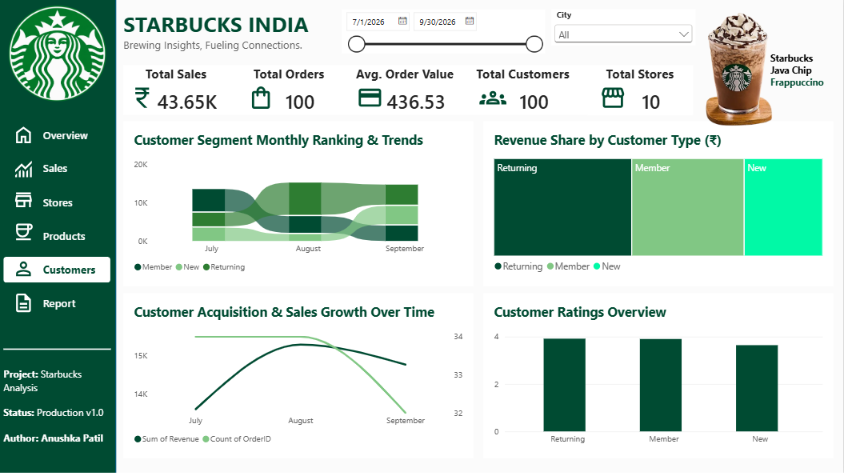

What the dashboard file says about the page in this screenshot:
{"tool":"powerbi","page":{"name":"Customers","canvas":[1280,720],"ordinal":4},"visuals":[{"type":"group","id":"g1","title":"Group 1","box":[0,0,178.6,720.2],"z":0},{"type":"shape","box":[0,0,178.6,720.2],"z":0,"group":"g1"},{"type":"cardVisual","title":"Total Sales","fields":{"Data":["_Measures (2).Total Sales"]},"box":[190,100,159,75],"z":0,"group":"g2"},{"type":"image","box":[6,8.4,166.5,147.2],"z":1000,"group":"g1"},{"type":"cardVisual","title":"Total Orders","fields":{"Data":["_Measures (2).Total Orders"]},"box":[361.9,100.1,159,75],"z":1000,"group":"g2"},{"type":"pageNavigator","box":[7.2,185.8,162.9,294.4],"z":1000},{"type":"cardVisual","title":"Avg. Order Value","fields":{"Data":["_Measures (2).Average Order Value"]},"box":[536.9,100.1,159,75],"z":2000,"group":"g2"},{"type":"image","box":[21.7,185.8,33.8,38.6],"z":2000},{"type":"cardVisual","title":"Total Stores","fields":{"Data":["_Measures (2).Total Stores"]},"box":[893.4,100,159.3,76],"z":3000,"group":"g2"},{"type":"image","box":[21.7,237.7,33.8,38.6],"z":3000},{"type":"cardVisual","title":"Total Customers","fields":{"Data":["_Measures (2).Total Customers"]},"box":[715.4,100.1,159,75],"z":4000,"group":"g2"},{"type":"image","box":[21.7,284.7,33.8,38.6],"z":4000},{"type":"image","box":[196,129.1,44.6,41],"z":5000,"group":"g2"},{"type":"image","box":[21.7,333,33.8,38.6],"z":5000},{"type":"image","box":[376,129,44,41],"z":6000,"group":"g2"},{"type":"image","box":[21.7,389.7,33.8,38.6],"z":6000},{"type":"image","box":[542,129,44,41],"z":7000,"group":"g2"},{"type":"image","box":[21.7,441.6,33.8,38.6],"z":7000},{"type":"textbox","box":[190,15,320,64],"z":8000},{"type":"image","box":[728,129,44,41],"z":8000,"group":"g2"},{"type":"textbox","box":[7.2,557.4,162.9,154.4],"z":8000,"group":"g1"},{"type":"group","id":"g2","title":"Group 2","box":[190,100,862.6,76],"z":9000},{"type":"image","box":[910,129,44,41],"z":9000,"group":"g2"},{"type":"shape","box":[7.2,515.2,162.9,30.2],"z":9000,"group":"g1"},{"type":"slicer","fields":{"Values":["Sales_Data.Date"]},"box":[520,14.5,308.8,67.6],"z":10000},{"type":"slicer","fields":{"Values":["Stores.City"]},"box":[837.3,14.5,218.4,55.5],"z":11000},{"type":"ribbonChart","title":"Customer Segment Monthly Ranking & Trends","fields":{"Category":["Sales_Data.Date.Variation.Date Hierarchy.Month"],"Series":["Sales_Data.Customer_Type"],"Y":["Sum(Sales_Data.Revenue)"]},"box":[190,185,530,250],"z":12000},{"type":"treemap","title":"Revenue Share by Customer Type (₹)","fields":{"Group":["Sales_Data.Customer_Type"],"Values":["Sum(Sales_Data.Revenue)"]},"box":[735,185,530,250],"z":13000},{"type":"group","id":"g3","title":"Group 1","box":[995.5,0,272,224.4],"z":14000},{"type":"lineChart","title":"Customer Acquisition & Sales Growth Over Time","fields":{"Category":["Sales_Data.Date.Variation.Date Hierarchy.Month"],"Y":["Sum(Sales_Data.Revenue)"],"Y2":["CountNonNull(Sales_Data.OrderID)"]},"box":[190,445,530,250],"z":15000},{"type":"textbox","box":[1169.8,78.4,97.7,59.1],"z":16000,"group":"g3"},{"type":"clusteredColumnChart","title":"Customer Ratings Overview","fields":{"Category":["Sales_Data.Customer_Type"],"Y":["Avg(Sales_Data.Rating)"]},"box":[735,445,530,250],"z":16000},{"type":"image","box":[995.5,0,250.9,224.4],"z":17000,"group":"g3"}]}

Visuals, with their boxes on the page's 1280x720 design canvas (x1, y1, x2, y2). These are canvas units, not pixel positions in the 844x473 screenshot, which may show the page scaled, cropped or inside an application window:
"Group 1" group: box=[0, 0, 179, 720]
shape: box=[0, 0, 179, 720]
"Total Sales" cardVisual: box=[190, 100, 349, 175]
image: box=[6, 8, 172, 156]
"Total Orders" cardVisual: box=[362, 100, 521, 175]
pageNavigator: box=[7, 186, 170, 480]
"Avg. Order Value" cardVisual: box=[537, 100, 696, 175]
image: box=[22, 186, 56, 224]
"Total Stores" cardVisual: box=[893, 100, 1053, 176]
image: box=[22, 238, 56, 276]
"Total Customers" cardVisual: box=[715, 100, 874, 175]
image: box=[22, 285, 56, 323]
image: box=[196, 129, 241, 170]
image: box=[22, 333, 56, 372]
image: box=[376, 129, 420, 170]
image: box=[22, 390, 56, 428]
image: box=[542, 129, 586, 170]
image: box=[22, 442, 56, 480]
textbox: box=[190, 15, 510, 79]
image: box=[728, 129, 772, 170]
textbox: box=[7, 557, 170, 712]
"Group 2" group: box=[190, 100, 1053, 176]
image: box=[910, 129, 954, 170]
shape: box=[7, 515, 170, 545]
slicer - Sales_Data.Date: box=[520, 14, 829, 82]
slicer - Stores.City: box=[837, 14, 1056, 70]
"Customer Segment Monthly Ranking & Trends" ribbonChart: box=[190, 185, 720, 435]
"Revenue Share by Customer Type (₹)" treemap: box=[735, 185, 1265, 435]
"Group 1" group: box=[996, 0, 1268, 224]
"Customer Acquisition & Sales Growth Over Time" lineChart: box=[190, 445, 720, 695]
textbox: box=[1170, 78, 1268, 138]
"Customer Ratings Overview" clusteredColumnChart: box=[735, 445, 1265, 695]
image: box=[996, 0, 1246, 224]
